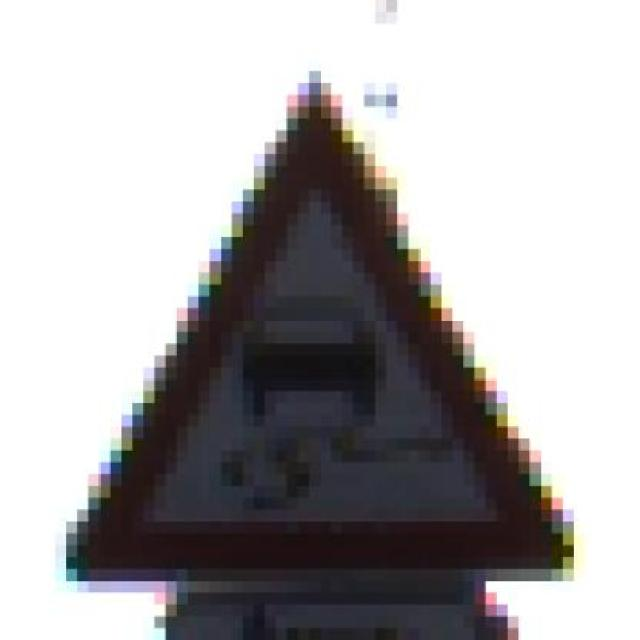Slippery Road Ahead: (51, 66, 582, 588)
